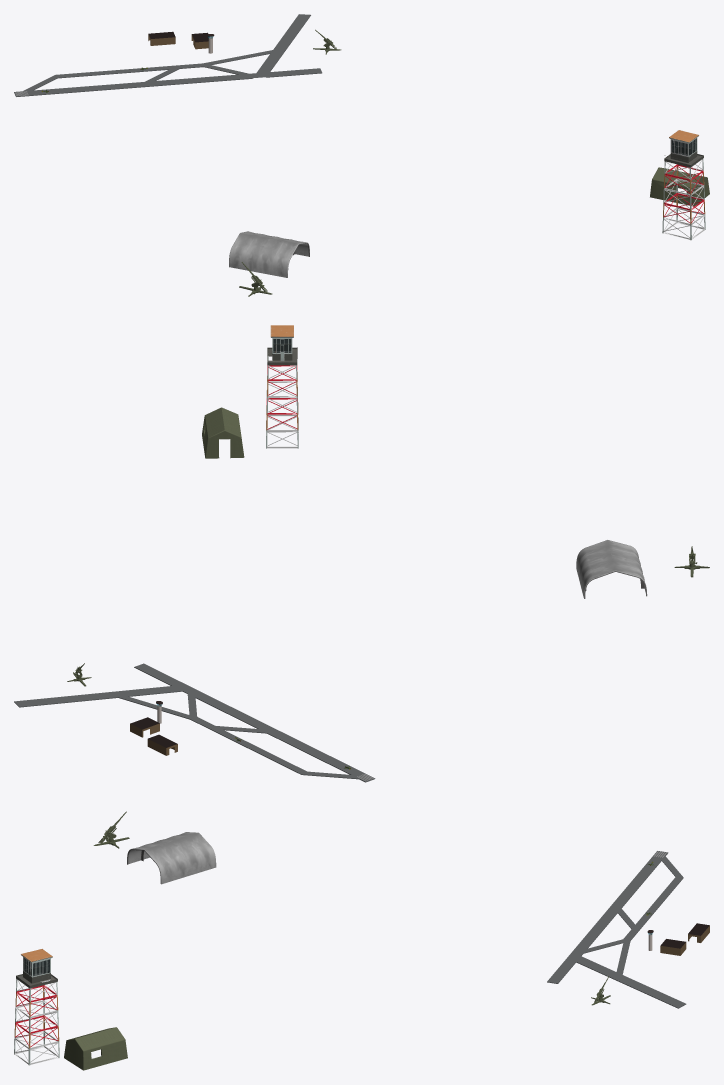
Rendered from Grimbergen.glb.
The picture shows the model from 3 angles, top to bottom: view 1: azimuth 30°, elevation 25°; view 2: azimuth 150°, elevation 25°; view 3: azimuth 270°, elevation 25°; orthographic projection. The views are drawn at different scales.
Parts seen in each view (by area): view 1: Object_5, defaultMaterial.263, clothBuilding001_Material #67_0, Box001_Main Tent_0; view 2: Object_5, defaultMaterial.263, clothBuilding001_Material #67_0, Box001_Main Tent_0; view 3: Object_5, defaultMaterial.263, clothBuilding001_Material #67_0, Box001_Main Tent_0.
Part boxes in pixels (box(x1,y1,x2,y2)): Object_5: box(14, 14, 322, 96); defaultMaterial.263: box(662, 130, 705, 240); clothBuilding001_Material #67_0: box(229, 231, 309, 277); Box001_Main Tent_0: box(650, 167, 709, 206); Object_5: box(14, 663, 375, 782); defaultMaterial.263: box(266, 325, 298, 448); clothBuilding001_Material #67_0: box(576, 540, 647, 598); Box001_Main Tent_0: box(202, 407, 244, 458); Object_5: box(547, 851, 709, 1008); defaultMaterial.263: box(14, 949, 59, 1065); clothBuilding001_Material #67_0: box(127, 832, 216, 884); Box001_Main Tent_0: box(64, 1027, 127, 1070).
Size of the model in its own units: 206 by 41.82 by 260.
Materials: 30 (18 with a texture image).
